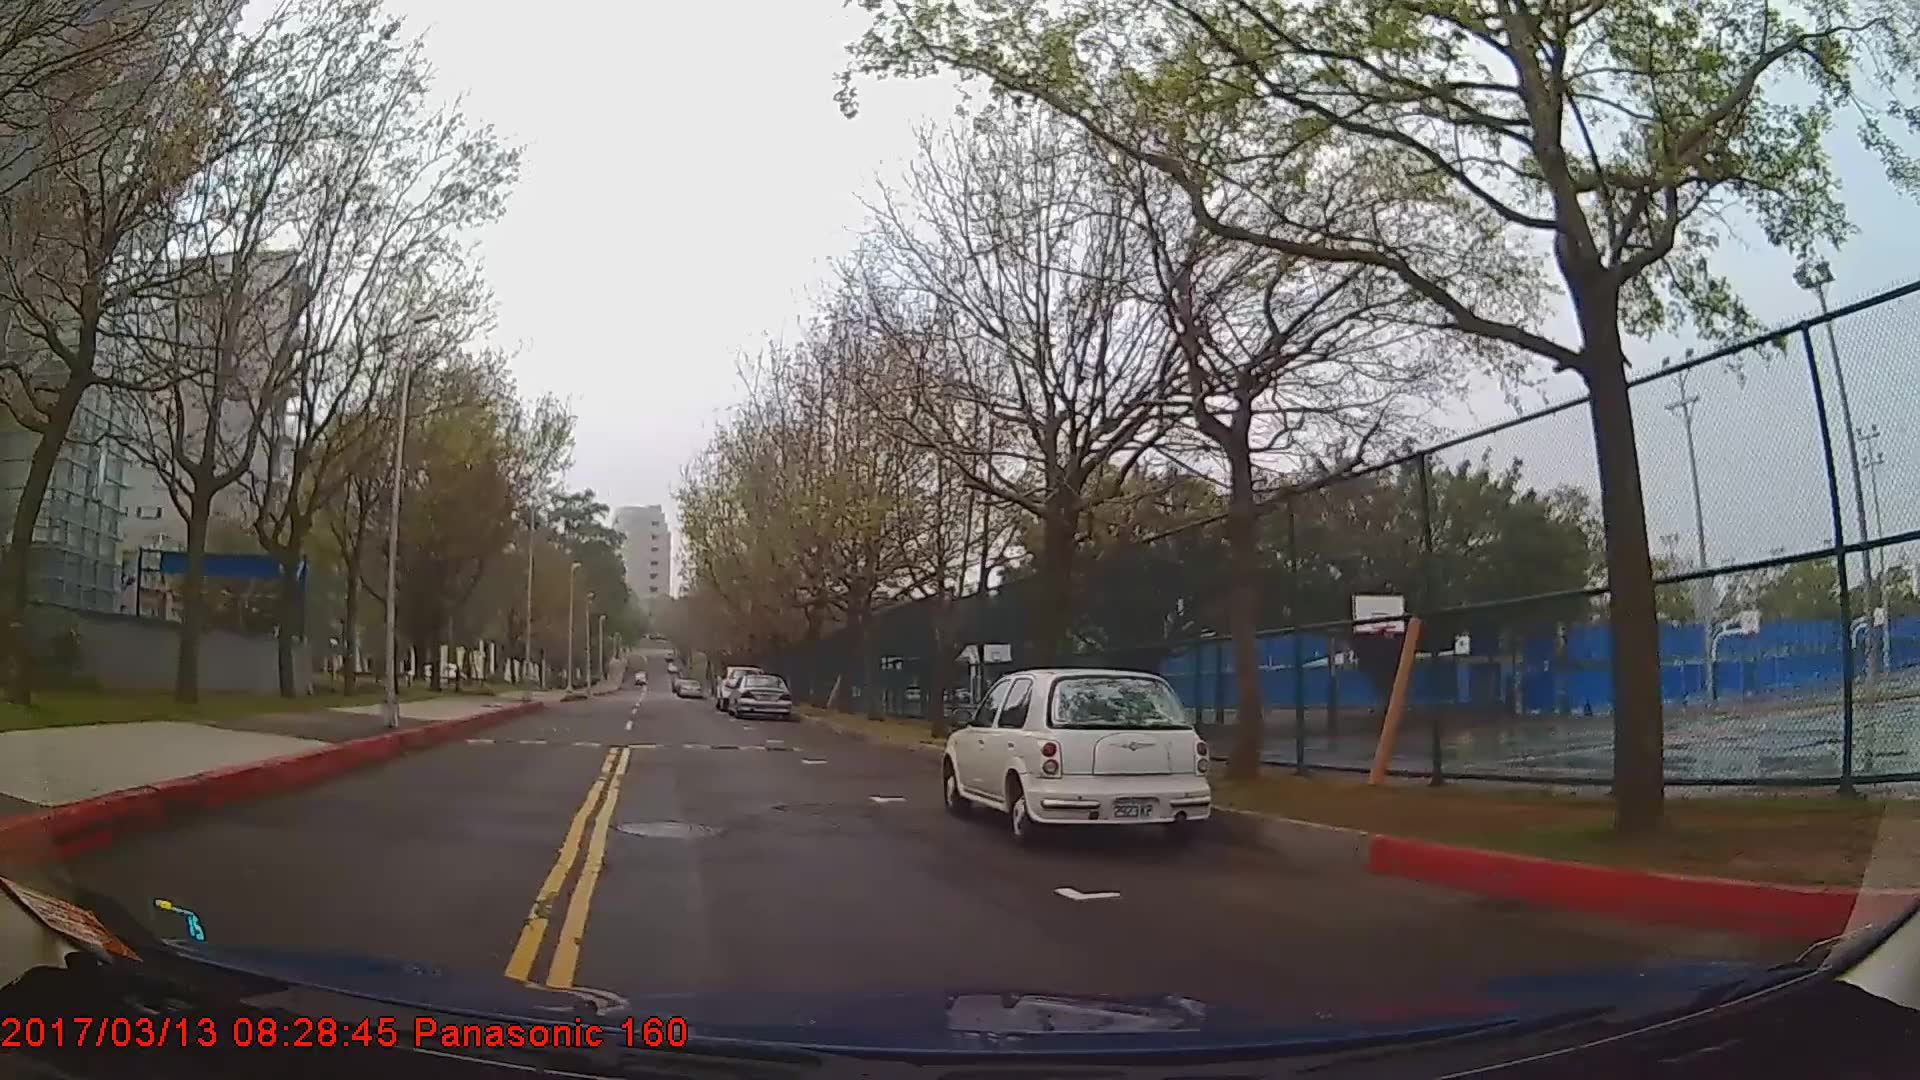vehicle: (940, 669, 1212, 844), (723, 670, 793, 719)
